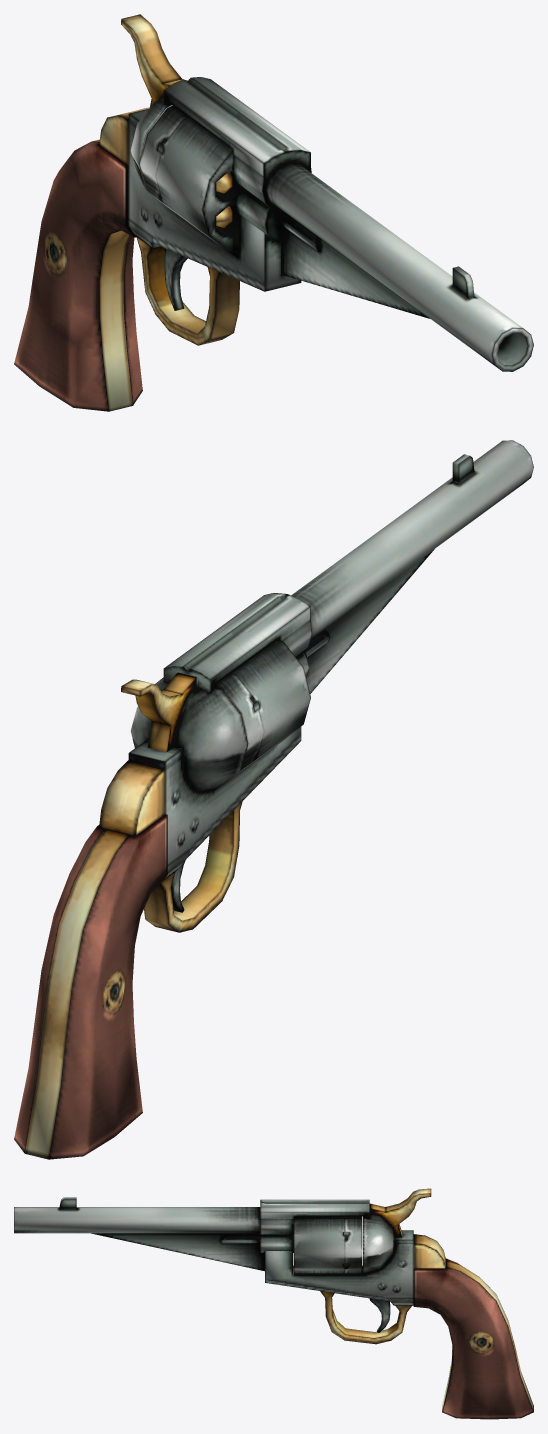
File: fv_revolver.glb
3 views of the same model, one above another, from view 1: azimuth 30°, elevation 25°; view 2: azimuth 150°, elevation 25°; view 3: azimuth 270°, elevation 25° (orthographic). The views are drawn at different scales.
Visible parts, largest first — view 1: revolver; view 2: revolver; view 3: revolver.
Boxes of the visible parts, box(x1,y1,x2,y2) form: revolver: box(14, 14, 533, 411); revolver: box(14, 440, 533, 1159); revolver: box(14, 1188, 533, 1419).
Bounding box in the file's own units: 3.47 × 12.39 × 26.38.
Materials: 1 (1 with a texture image).
